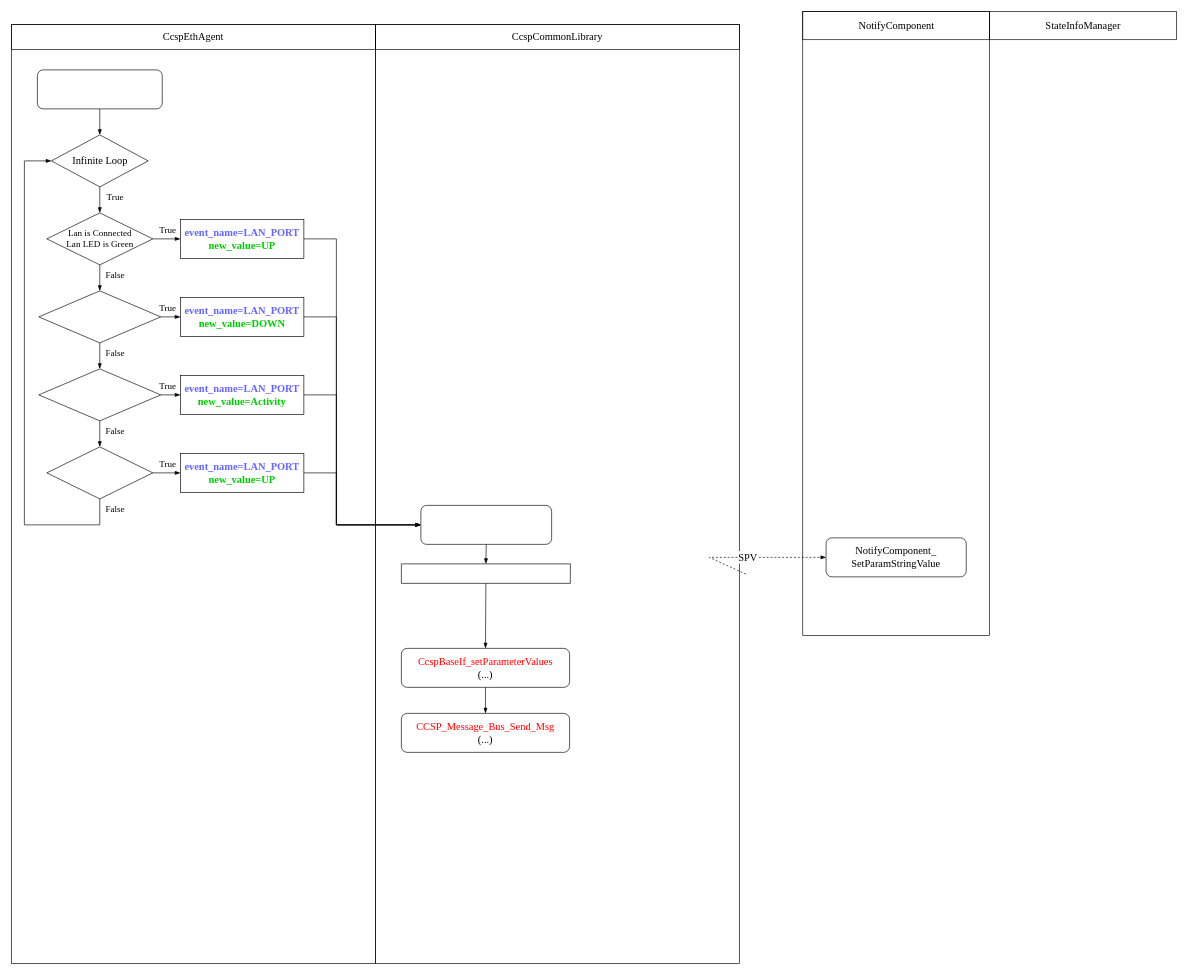
The diagram is 1188 pixels wide and 975 high, and some of its shapes have lost their labels. The centre of each missing label's shape, as x and y in pixels:
"Data Model" belongs at point 485,573.
"Lan is Connected Lan LED is Blink" belongs at point 99,472.
"Lan is Connected Lan LED is not Blink" belongs at point 99,394.
"Lan is Disconnected Lan LED is Red" belongs at point 99,316.
"LANStatusMonitorThread ( void )" belongs at point 99,89.
"Notify_change ( event_name , *new_value )" belongs at point 486,524.
